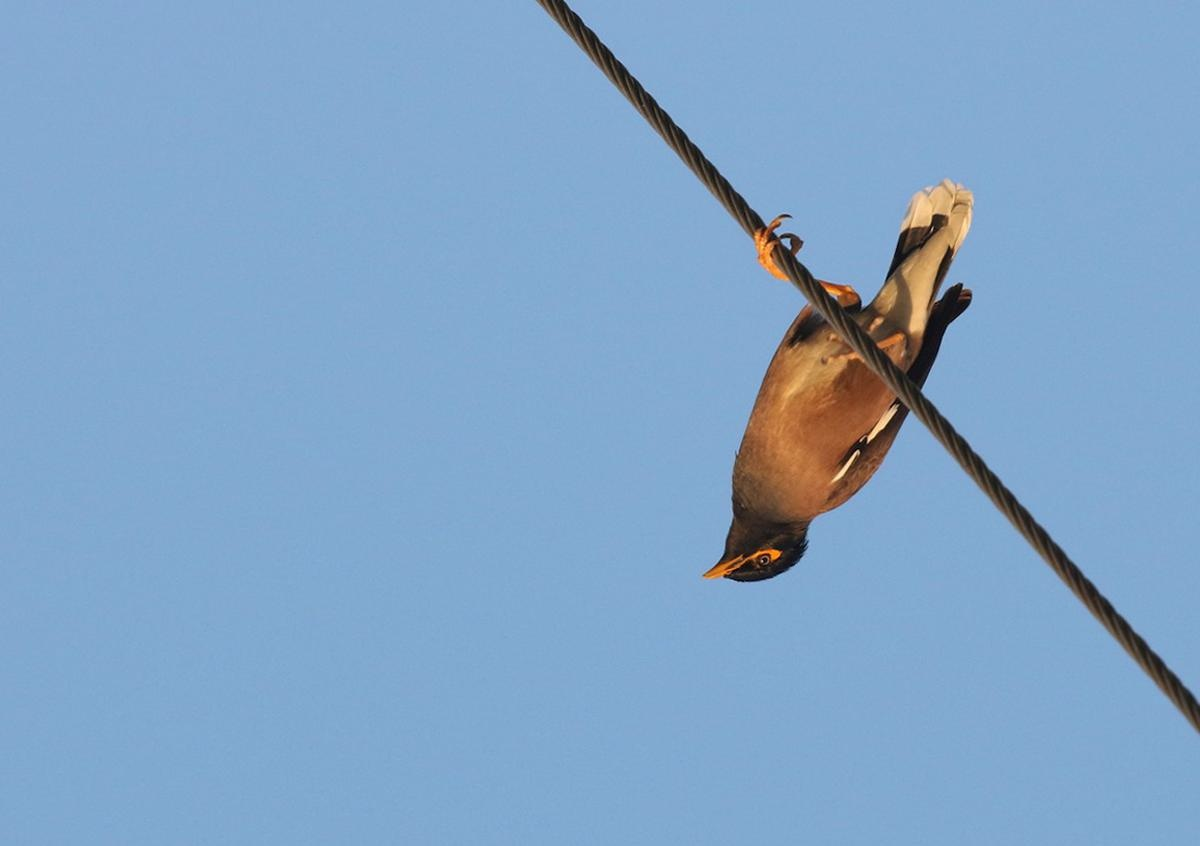myna: (671, 141, 996, 606)
